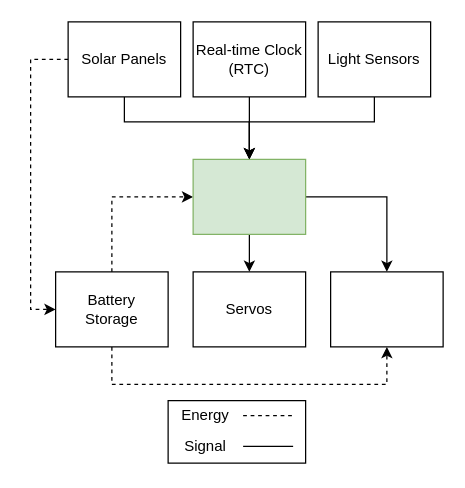
Image size: 465x488. Some labels were removed from this diagram. The centre of each missing label's shape, as x and y in pixels:
Controller: the point at 249,196
LEDs: the point at 386,309
